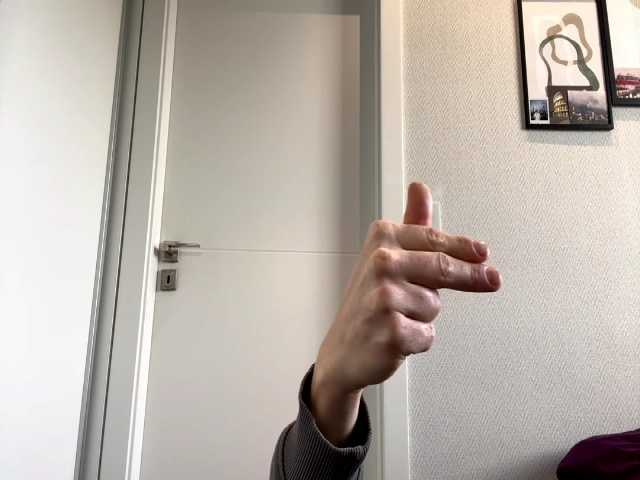N: (347, 183, 502, 368)
